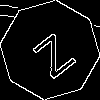Z: (25, 25, 77, 80)
